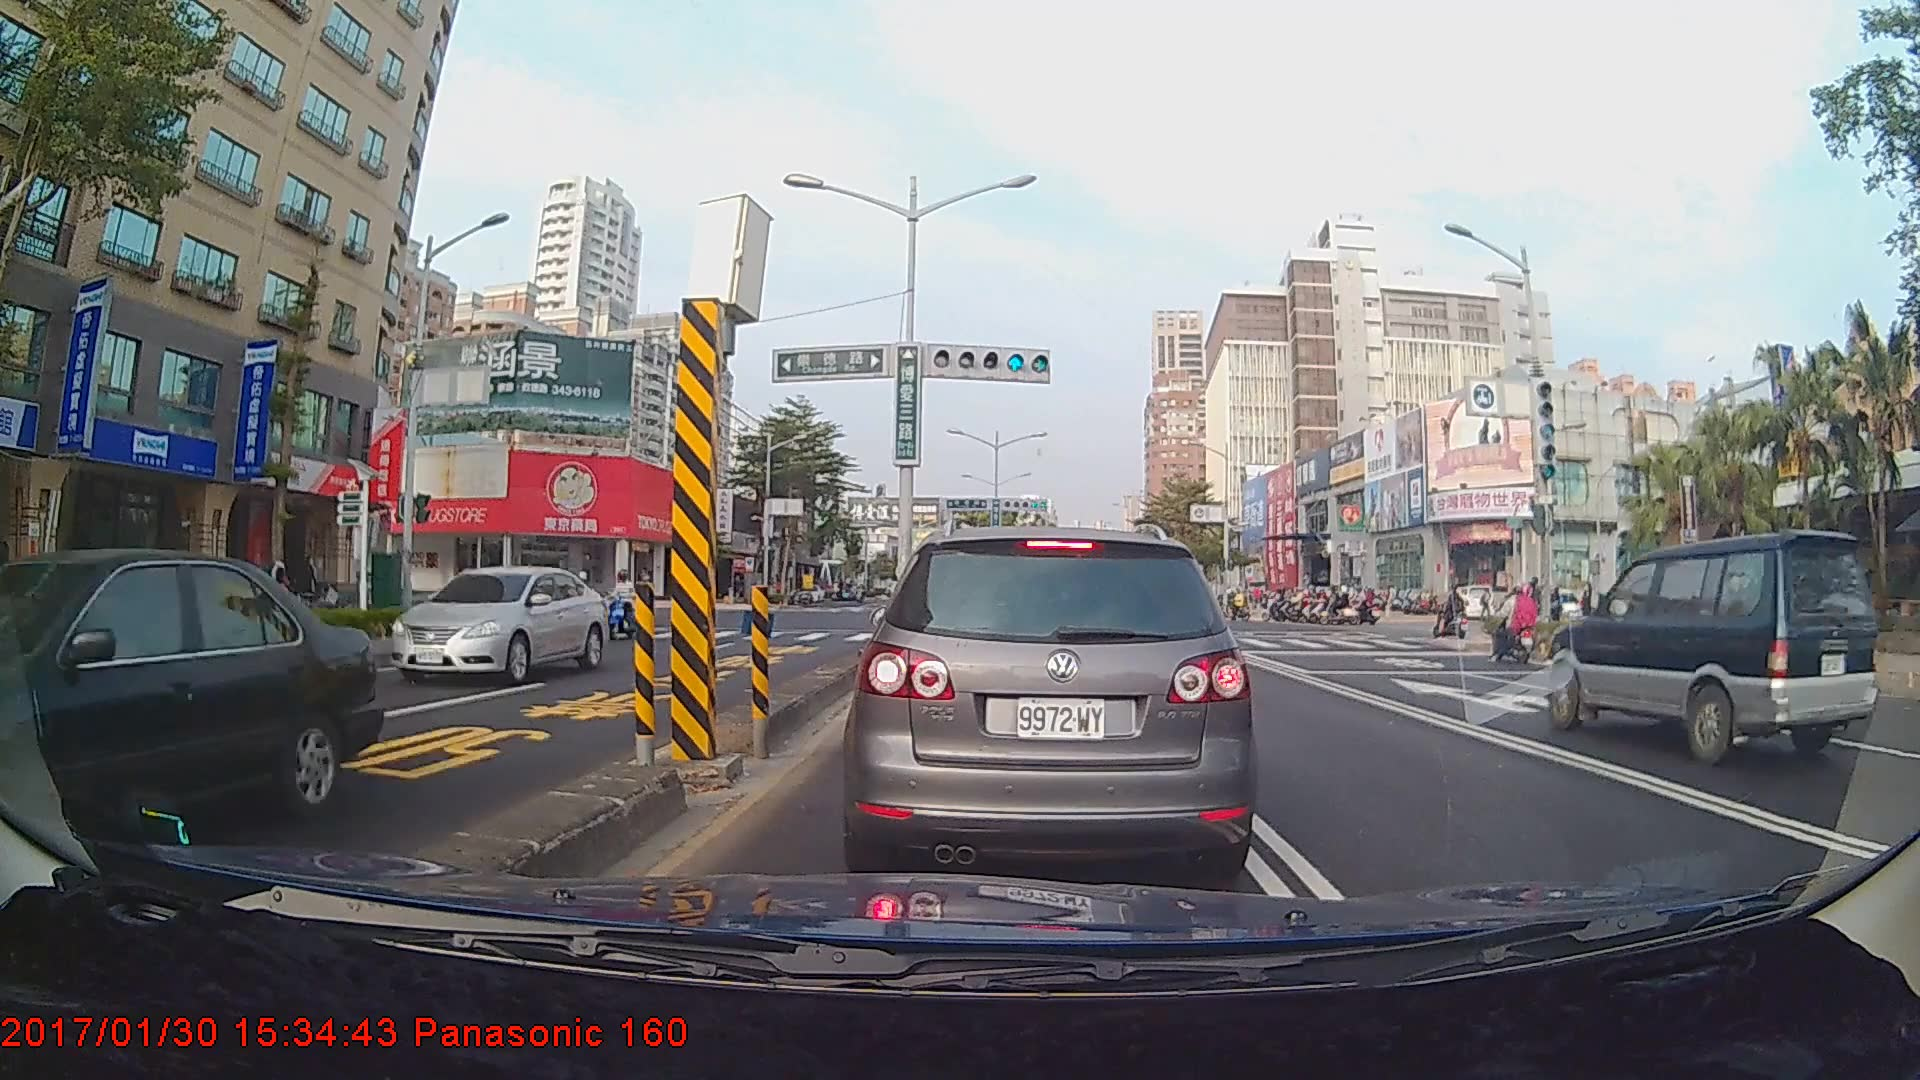rider: (1485, 582, 1548, 668), (1436, 582, 1473, 646)
vehicle: (854, 520, 1249, 879), (0, 545, 380, 899), (1546, 528, 1879, 765), (386, 566, 610, 686)
